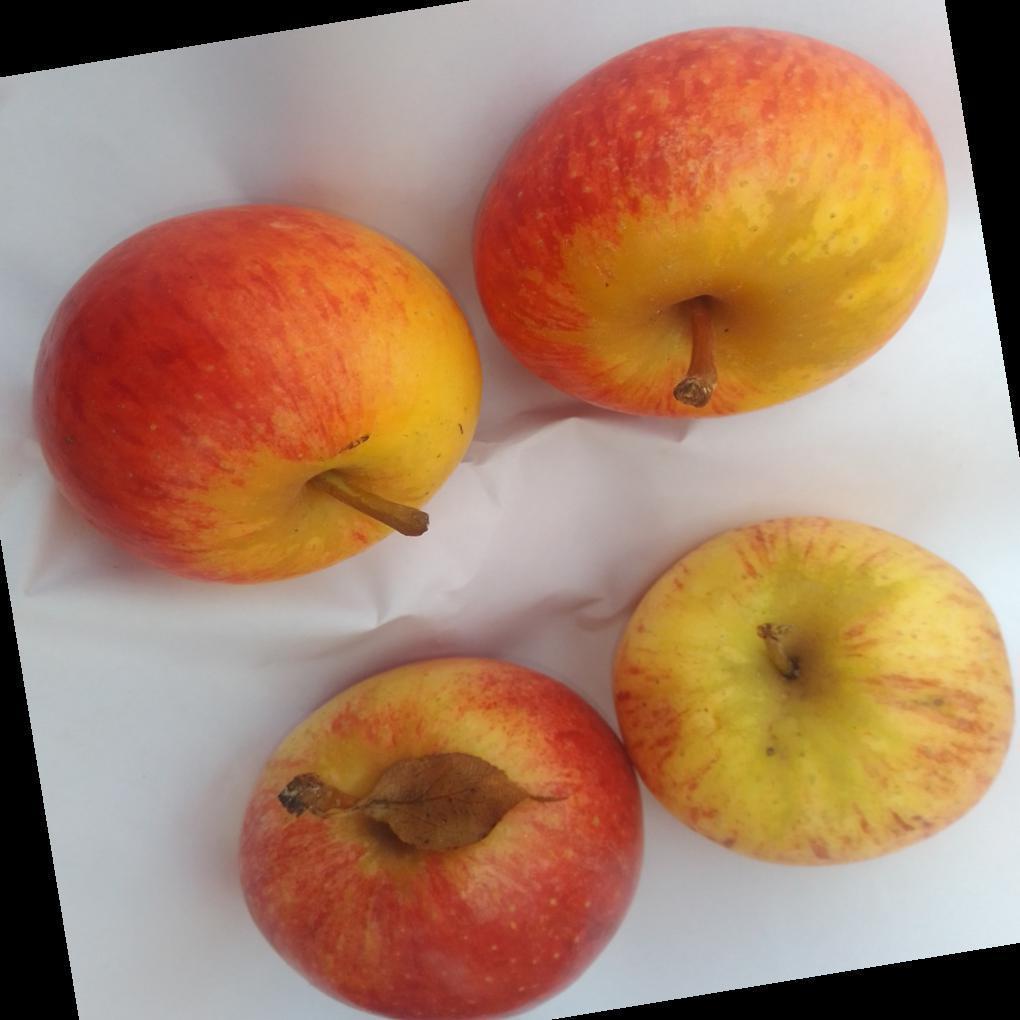FreshGuava: (239, 516, 1018, 929), (20, 206, 483, 677), (470, 27, 950, 422)
